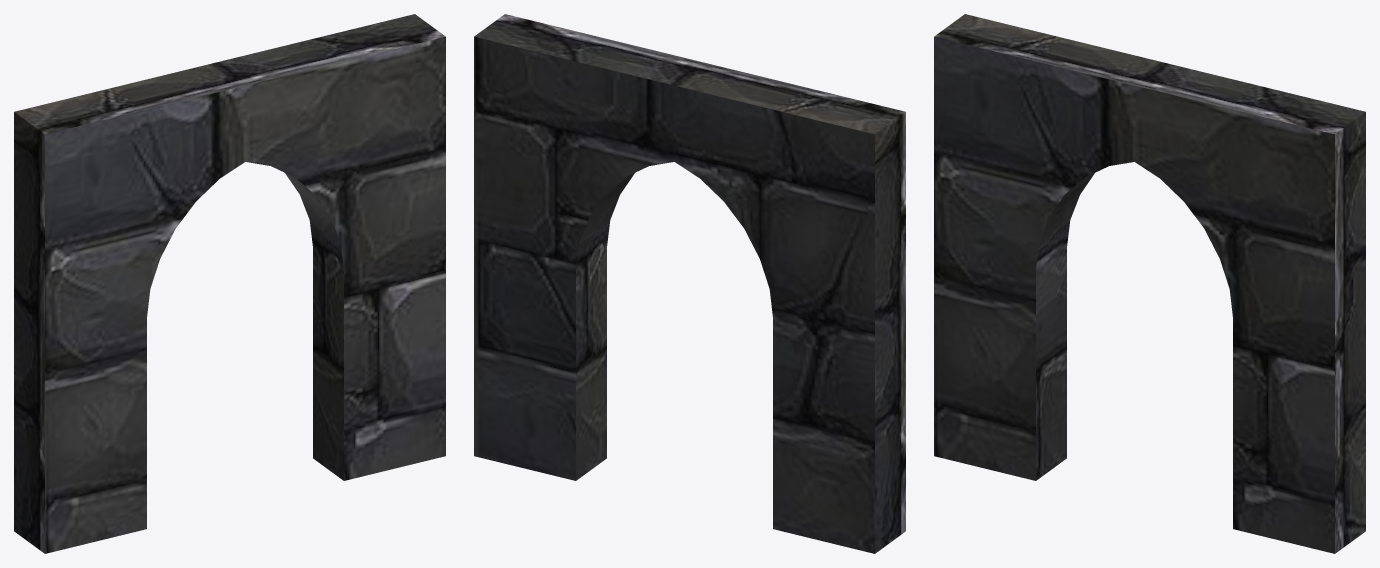
The model's file is Wall_Entrance.fbx.
3 views of the same model, side by side, from view 1: azimuth 30°, elevation 25°; view 2: azimuth 150°, elevation 25°; view 3: azimuth 330°, elevation 25° (orthographic).
Visible parts, largest first — view 1: Wall_entrance; view 2: Wall_entrance; view 3: Wall_entrance.
Part boxes in pixels (bbox=[...]): Wall_entrance: bbox=[14, 14, 445, 553]; Wall_entrance: bbox=[474, 14, 905, 553]; Wall_entrance: bbox=[934, 14, 1365, 553].
Bounding box in the file's own units: 4.36 × 4.36 × 0.5823.
